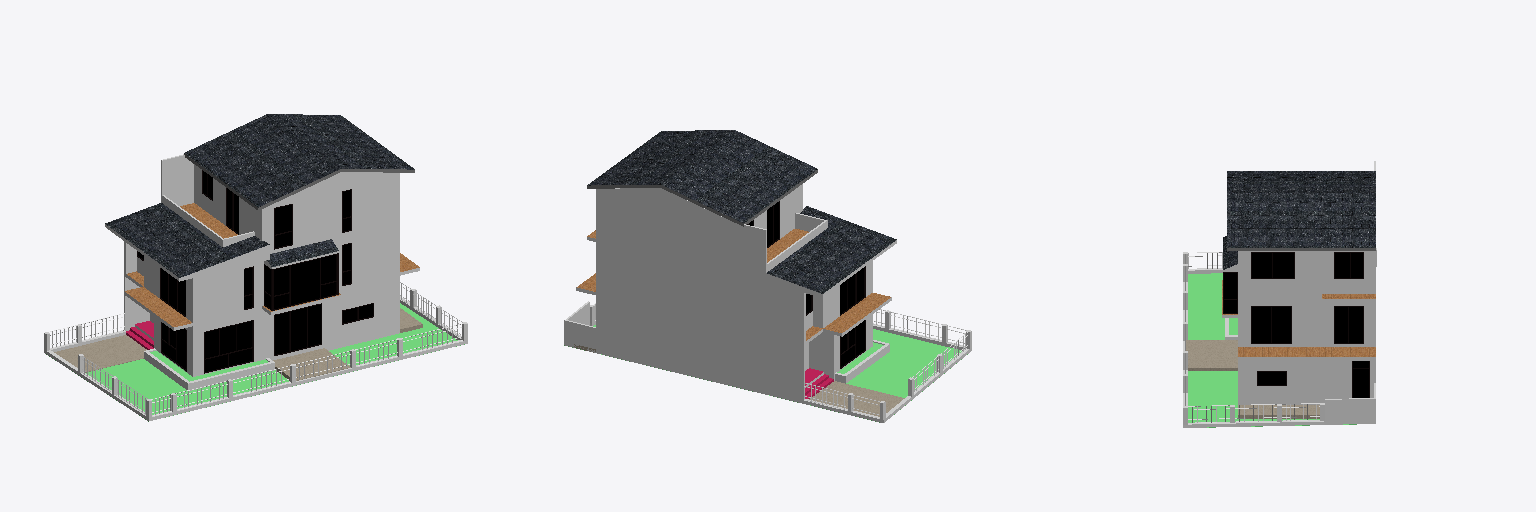
3 views of the same model, side by side, from view 1: azimuth 30°, elevation 25°; view 2: azimuth 150°, elevation 25°; view 3: azimuth 270°, elevation 25° (orthographic).
Visible parts, largest first — view 1: Box086, Line017, Line009, Plane002, Plane001, Line002, Line007, Box037, Line020, Line010, Box002, Box003 (+15 smaller); view 2: Box086, Line002, Line009, Line017, Plane002, Plane001, Line010, Line003, Box088, Line008, Line007, Box087 (+8 smaller); view 3: Box086, Plane001, Line002, Line009, Line017, Line010, Box028, Box044, Line006, Box069, Box085, Box043 (+10 smaller).
Boxes of the visible parts, x1,y1,x2,y2 form: Box086: [184, 114, 414, 210]; Line017: [194, 164, 399, 250]; Line009: [124, 223, 399, 322]; Plane002: [105, 203, 269, 281]; Plane001: [46, 303, 464, 421]; Line002: [124, 276, 399, 375]; Line007: [44, 296, 467, 420]; Box037: [274, 254, 336, 310]; Line020: [50, 282, 462, 415]; Line010: [124, 253, 419, 330]; Box002: [204, 320, 253, 373]; Box003: [274, 303, 321, 355]; Box086: [587, 130, 817, 226]; Line002: [596, 296, 872, 395]; Line009: [596, 242, 872, 342]; Line017: [596, 184, 802, 271]; Plane002: [766, 206, 896, 296]; Plane001: [564, 325, 967, 422]; Line010: [576, 273, 891, 345]; Line003: [596, 346, 872, 400]; Box088: [734, 223, 766, 279]; Line008: [809, 381, 904, 416]; Line007: [590, 321, 971, 422]; Box087: [599, 188, 731, 221]; Box086: [1227, 171, 1375, 250]; Plane001: [1188, 273, 1356, 427]; Line002: [1238, 361, 1375, 400]; Line009: [1238, 297, 1375, 346]; Line017: [1238, 251, 1375, 293]; Line010: [1222, 280, 1375, 360]; Box028: [1186, 340, 1237, 370]; Box044: [1251, 306, 1291, 343]; Line006: [1325, 383, 1375, 424]; Box069: [1251, 252, 1294, 278]; Box085: [1251, 251, 1363, 293]; Box043: [1334, 306, 1363, 343].
Size of the model in its own units: 103 by 55.3 by 52.47.
Materials: 16 (4 with a texture image).